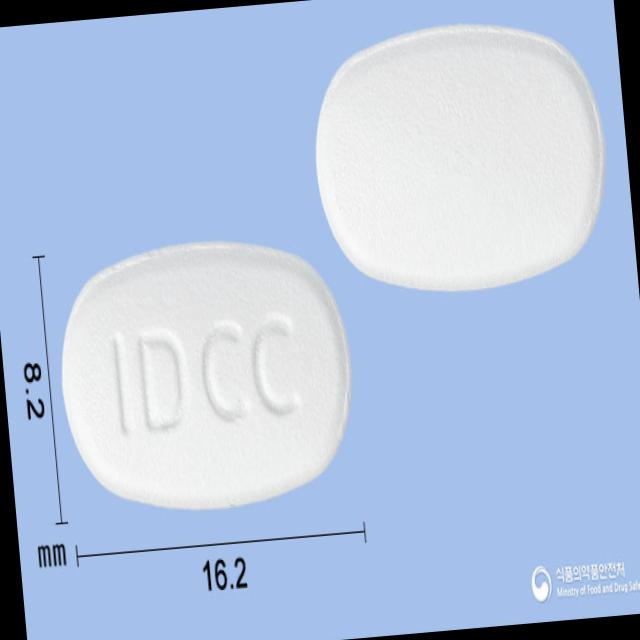Cycin: (49, 224, 364, 522)
